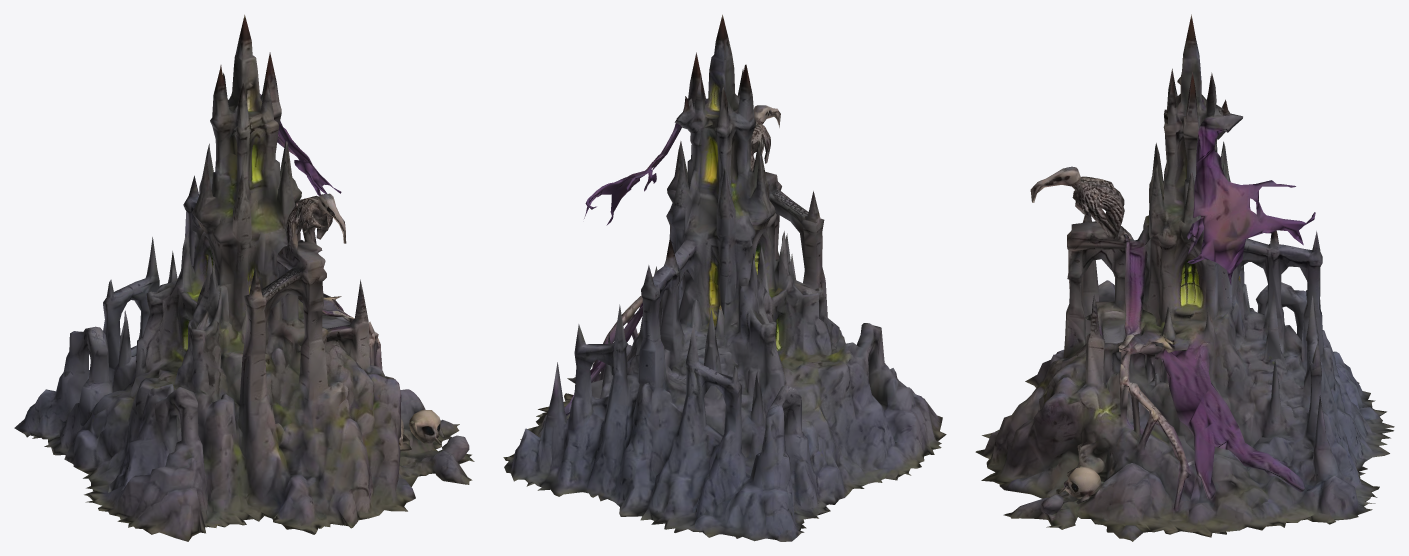
3 views of the same model, side by side, from view 1: azimuth 30°, elevation 25°; view 2: azimuth 150°, elevation 25°; view 3: azimuth 270°, elevation 25° (orthographic).
Parts seen in each view (by area): view 1: tripo_node_5d8be2dc-30c1-46d5-98d2-9bee4a3a1579; view 2: tripo_node_5d8be2dc-30c1-46d5-98d2-9bee4a3a1579; view 3: tripo_node_5d8be2dc-30c1-46d5-98d2-9bee4a3a1579.
Boxes of the visible parts, bbox=[...] form: tripo_node_5d8be2dc-30c1-46d5-98d2-9bee4a3a1579: bbox=[14, 14, 474, 541]; tripo_node_5d8be2dc-30c1-46d5-98d2-9bee4a3a1579: bbox=[503, 14, 946, 541]; tripo_node_5d8be2dc-30c1-46d5-98d2-9bee4a3a1579: bbox=[975, 14, 1394, 541].
Bounding box in the file's own units: 3.6 × 4.45 × 3.6.
1 material, 1 textured.
